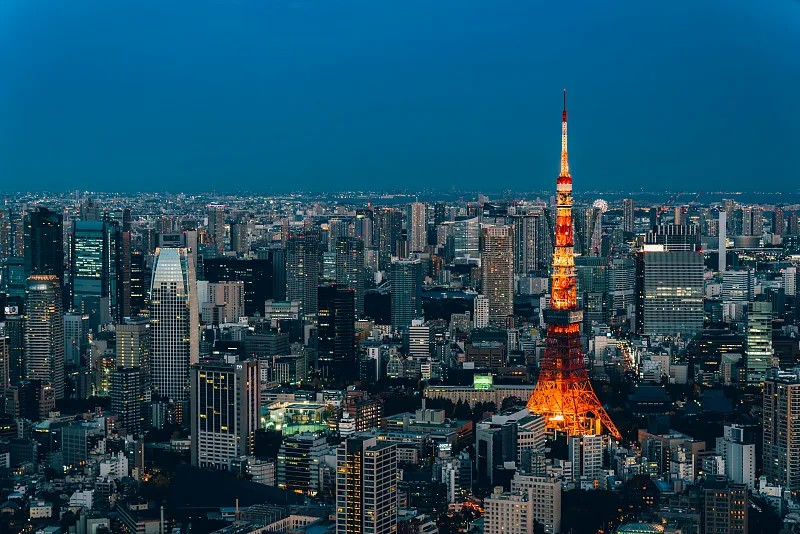Tokyo: (525, 86, 622, 444)
